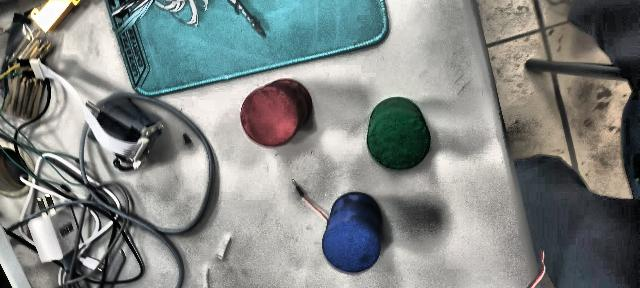blue: (321, 192, 381, 272)
green: (366, 96, 432, 170)
red: (236, 79, 312, 150)
